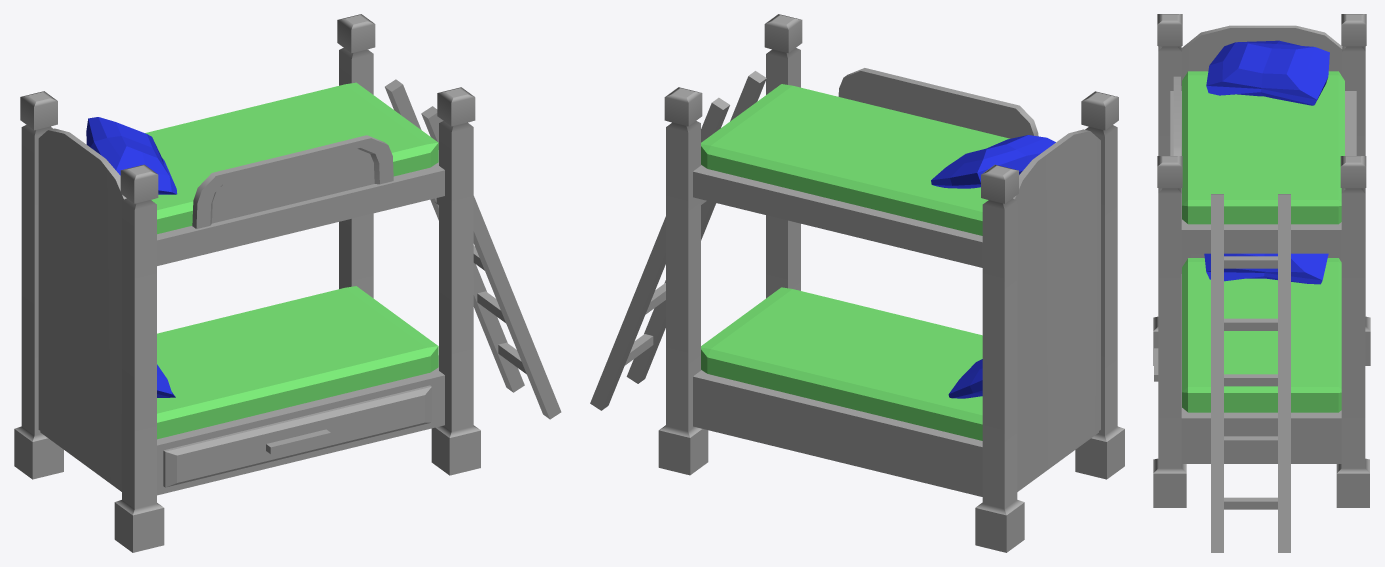
File: bunkBed.fbx
3 views of the same model, side by side, from view 1: azimuth 30°, elevation 25°; view 2: azimuth 150°, elevation 25°; view 3: azimuth 270°, elevation 25° (orthographic). The views are drawn at different scales.
Visible parts, largest first — view 1: bedframe, mattress1, mattress2, plankup, pCube4, pCube13, pillow 2, handle; view 2: bedframe, mattress1, mattress2, pCube13, plankup, pillow 2, pillow 1; view 3: bedframe, mattress2, mattress1, pCube13, pillow 2, pillow 1, plankup.
Part boxes in pixels (bbox=[...]): bedframe: bbox=[14, 14, 480, 552]; mattress1: bbox=[157, 286, 438, 439]; mattress2: bbox=[145, 82, 438, 234]; plankup: bbox=[192, 135, 393, 228]; pCube4: bbox=[163, 385, 431, 487]; pCube13: bbox=[385, 79, 561, 419]; pillow 2: bbox=[86, 117, 177, 194]; handle: bbox=[266, 429, 330, 454]; bedframe: bbox=[658, 14, 1124, 552]; mattress1: bbox=[701, 287, 982, 440]; mattress2: bbox=[701, 84, 1009, 235]; pCube13: bbox=[590, 71, 766, 410]; plankup: bbox=[838, 68, 1038, 138]; pillow 2: bbox=[931, 135, 1055, 188]; pillow 1: bbox=[948, 359, 982, 398]; bedframe: bbox=[1153, 14, 1370, 507]; mattress2: bbox=[1182, 71, 1344, 224]; mattress1: bbox=[1182, 258, 1341, 412]; pCube13: bbox=[1211, 194, 1290, 552]; pillow 2: bbox=[1206, 40, 1329, 105]; pillow 1: bbox=[1204, 253, 1328, 284]; plankup: bbox=[1173, 76, 1180, 155].
Bounding box in the file's own units: 441 × 341 × 197.
